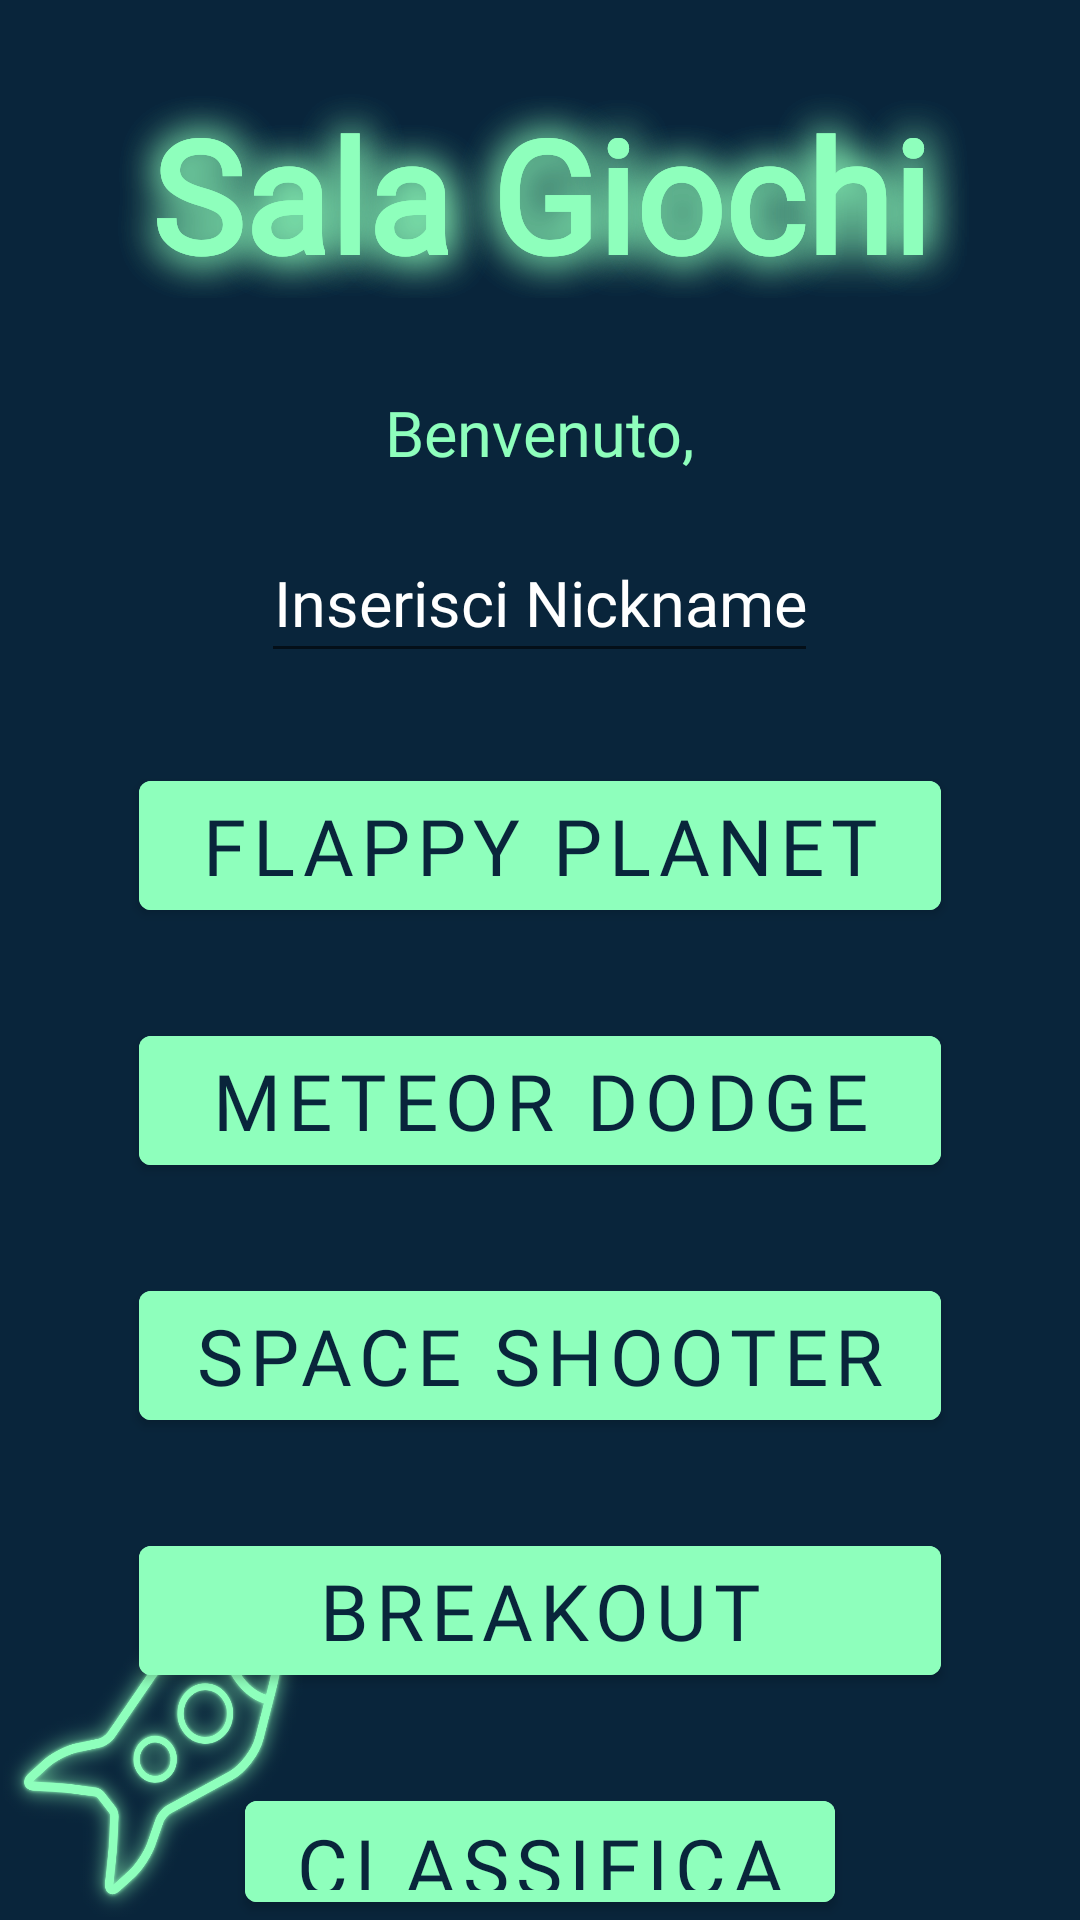

Named icons in this screenshot (1080×1920) and their bounding boxes, (x1, y1, x2, y2):
space: (17, 1617, 303, 1902)
